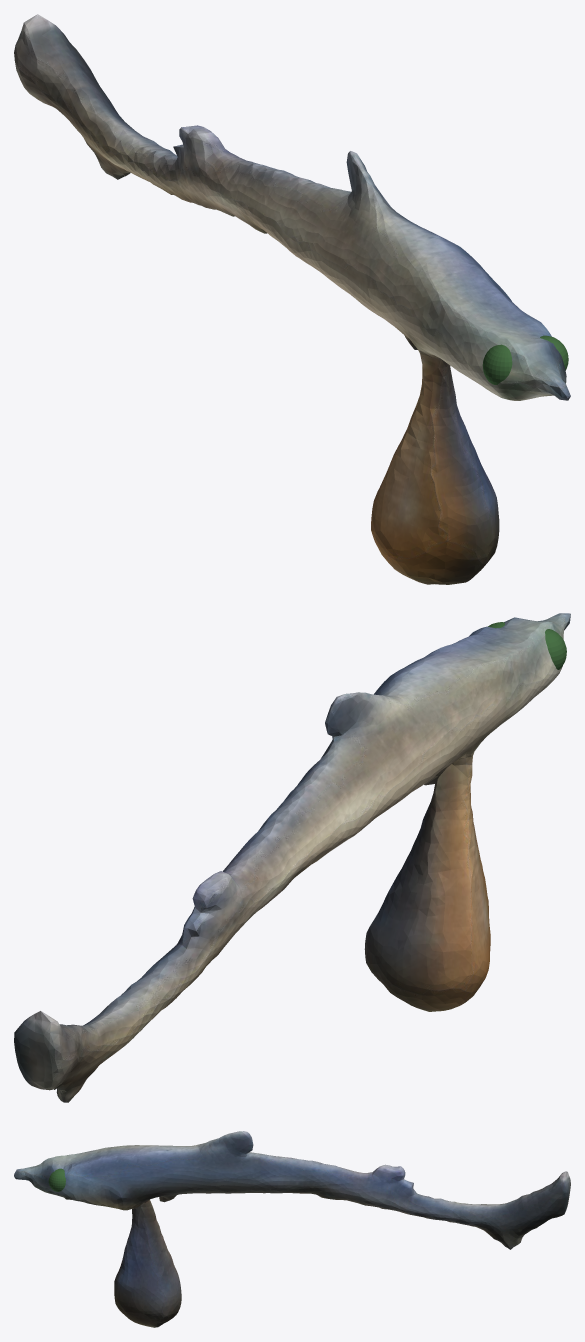
3 views of the same model, one above another, from view 1: azimuth 30°, elevation 25°; view 2: azimuth 150°, elevation 25°; view 3: azimuth 270°, elevation 25° (orthographic). The views are drawn at different scales.
Parts seen in each view (by area): view 1: Sphere.001; view 2: Sphere.001; view 3: Sphere.001.
Boxes of the visible parts, x1,y1,x2,y2 form: Sphere.001: [14, 14, 570, 584]; Sphere.001: [14, 613, 570, 1102]; Sphere.001: [14, 1131, 570, 1327].
Size of the model in its own units: 0.1895 by 0.5931 by 1.55.
2 materials, 1 textured.
